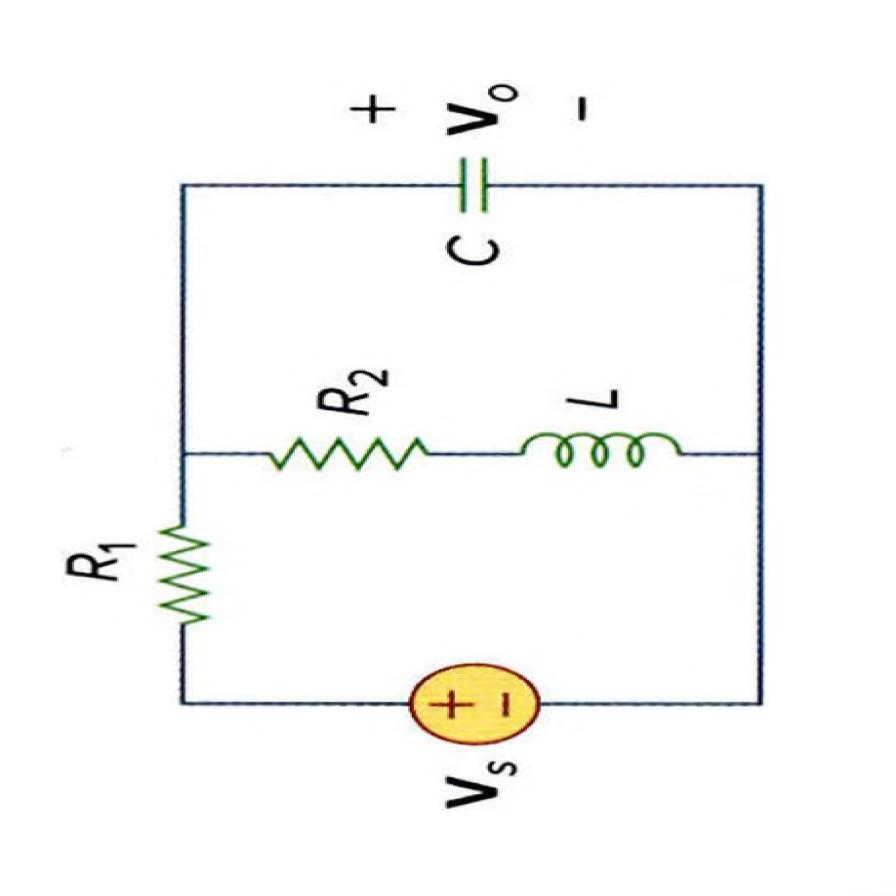C1: (418, 146, 522, 222)
L1: (496, 417, 692, 471)
R1: (243, 428, 450, 479)
R2: (144, 513, 224, 630)
V4: (386, 654, 558, 748)
